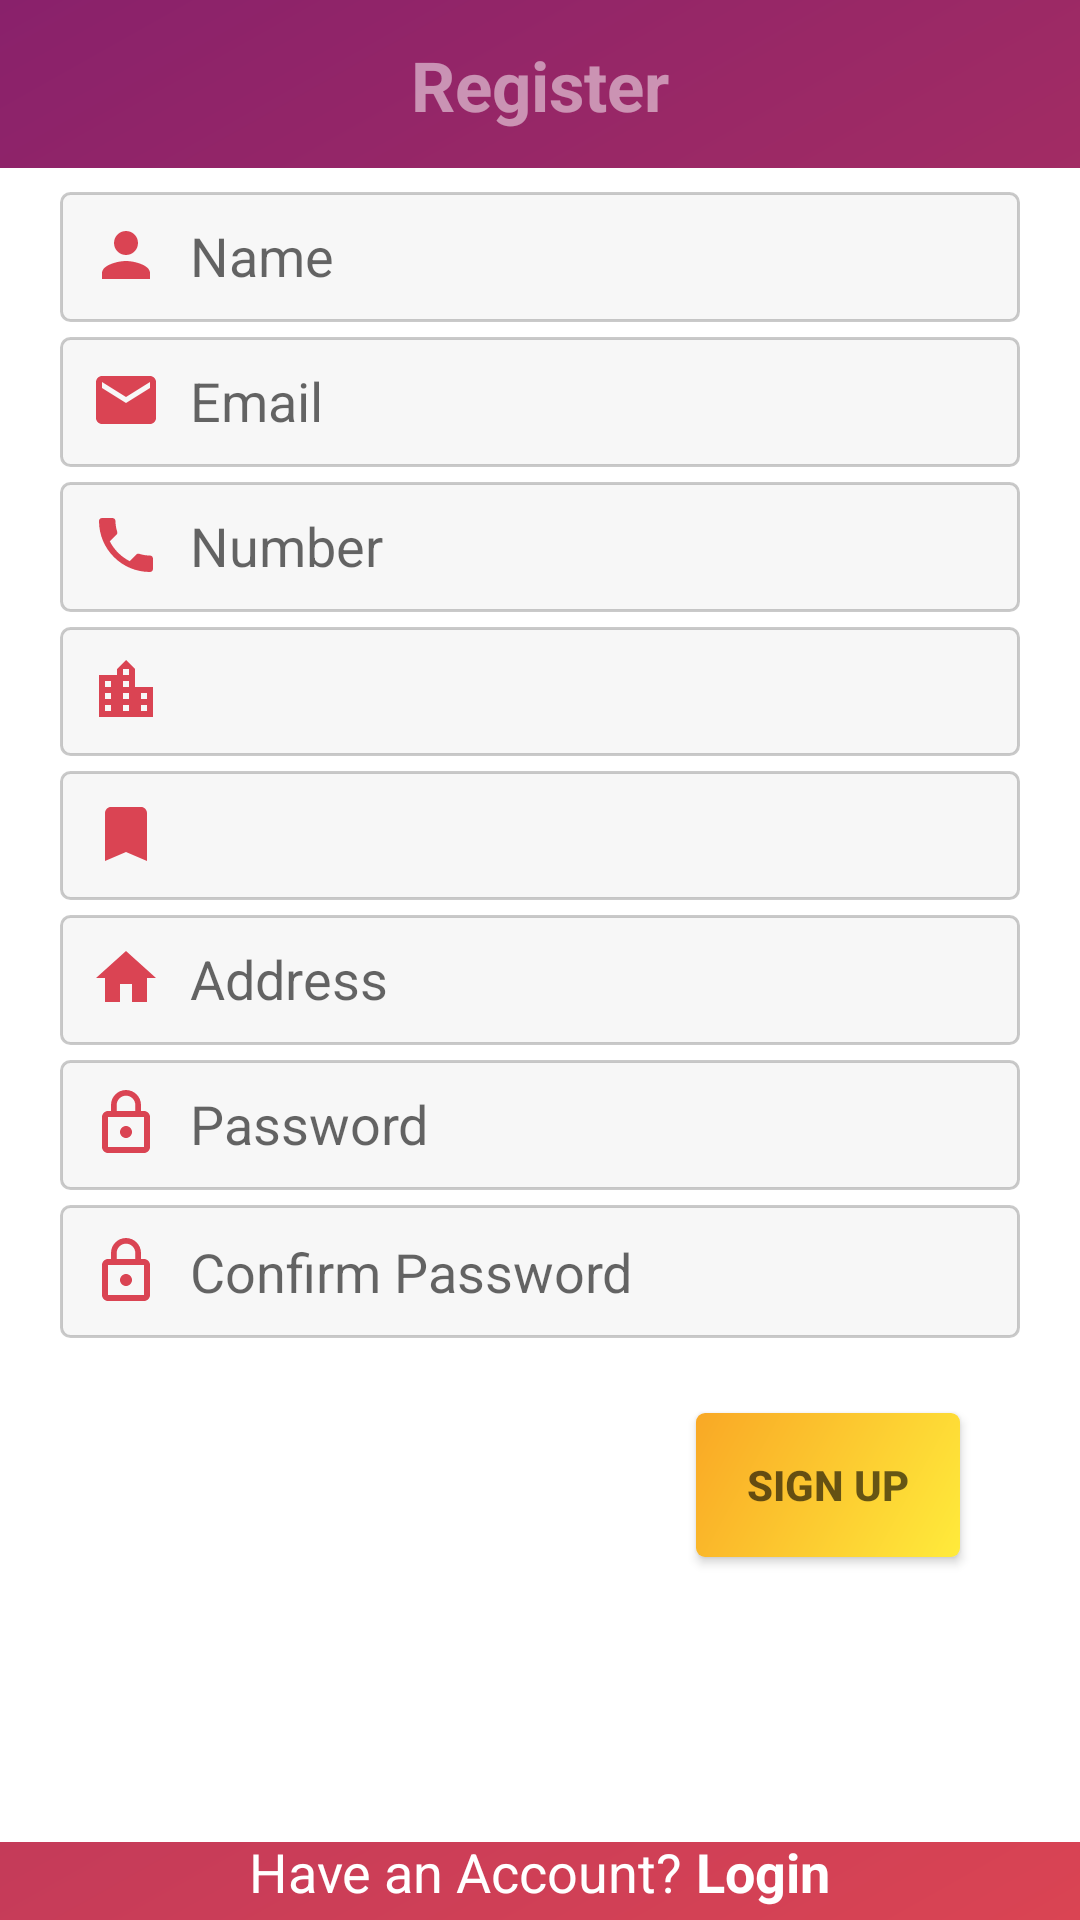

Icon bounding boxes for this 1080px×1920px phone screenshot, format region(x1, y1, x2, y2):
bookmark: region(105, 807, 147, 861)
location city: region(99, 660, 153, 717)
